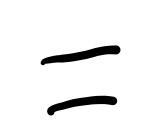eqv: (42, 46, 121, 115)
